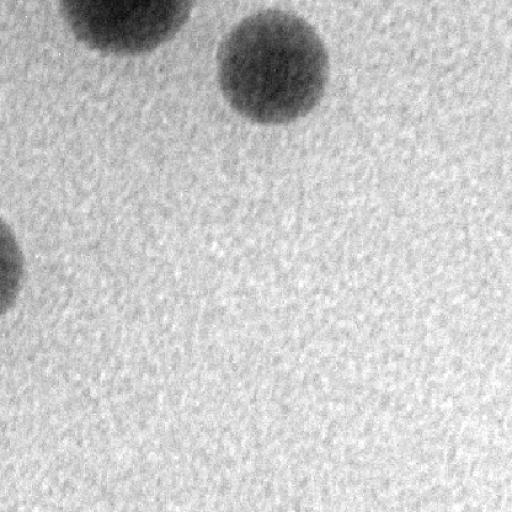Nanoparticles: (214, 7, 332, 122), (58, 0, 192, 53), (0, 216, 25, 316)
